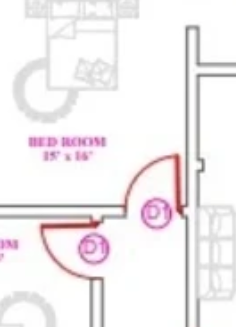door: (114, 133, 187, 224), (34, 210, 117, 285)
